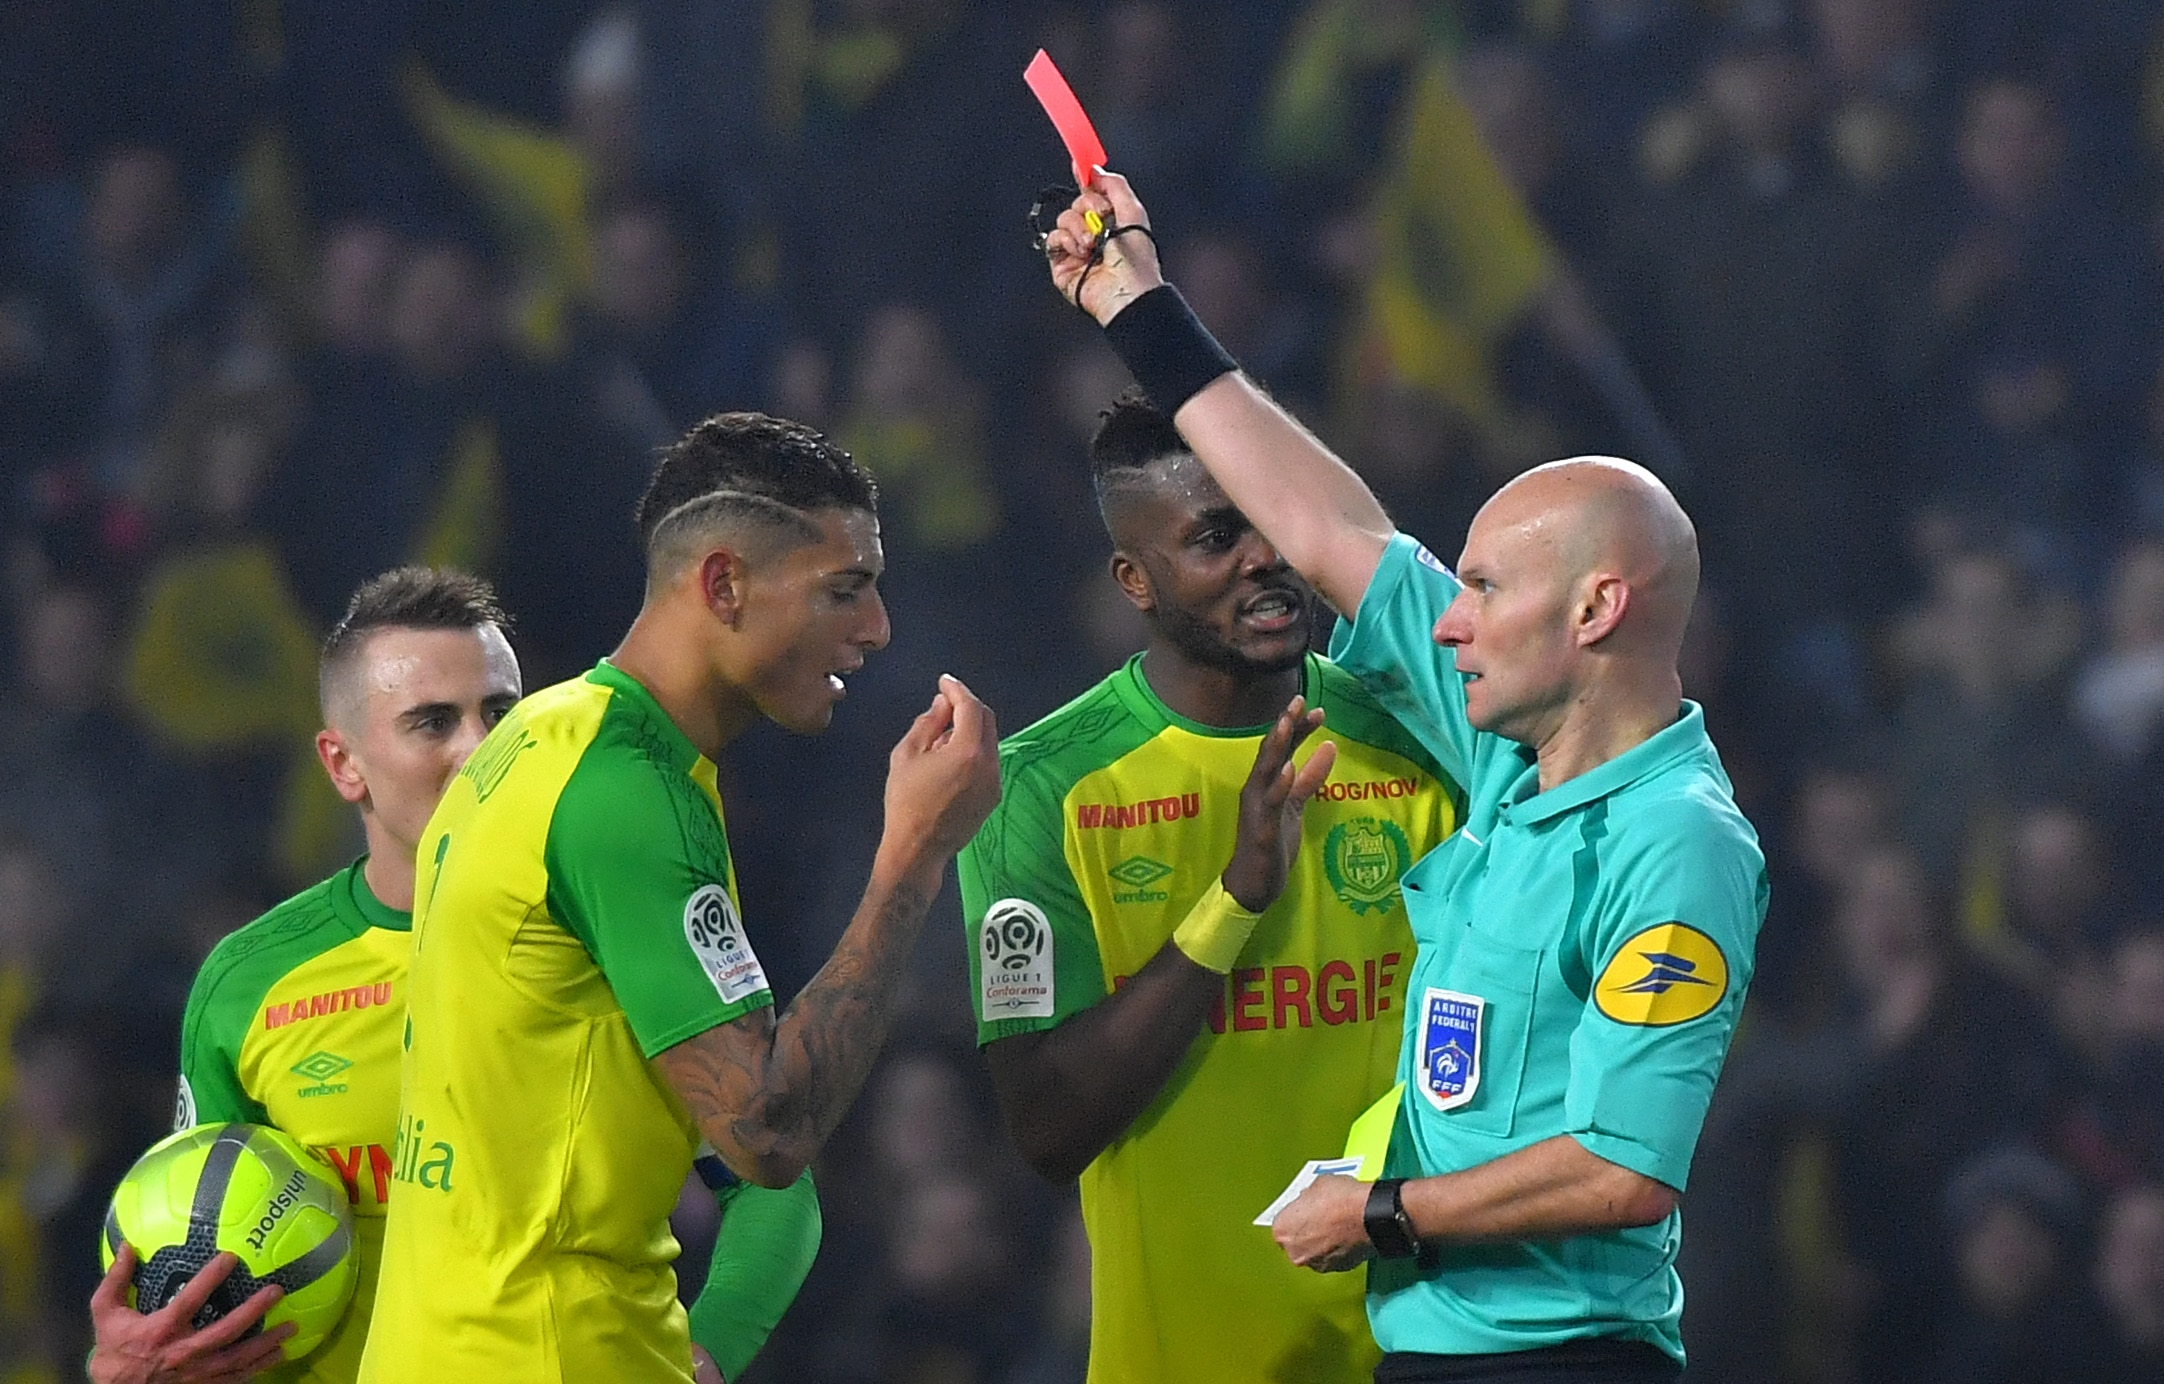red_card: (965, 46, 1180, 322)
